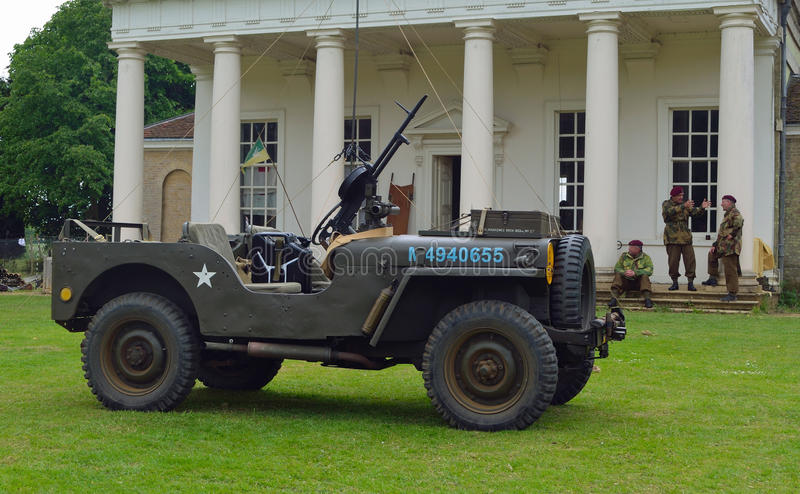jeep: (55, 196, 619, 434)
